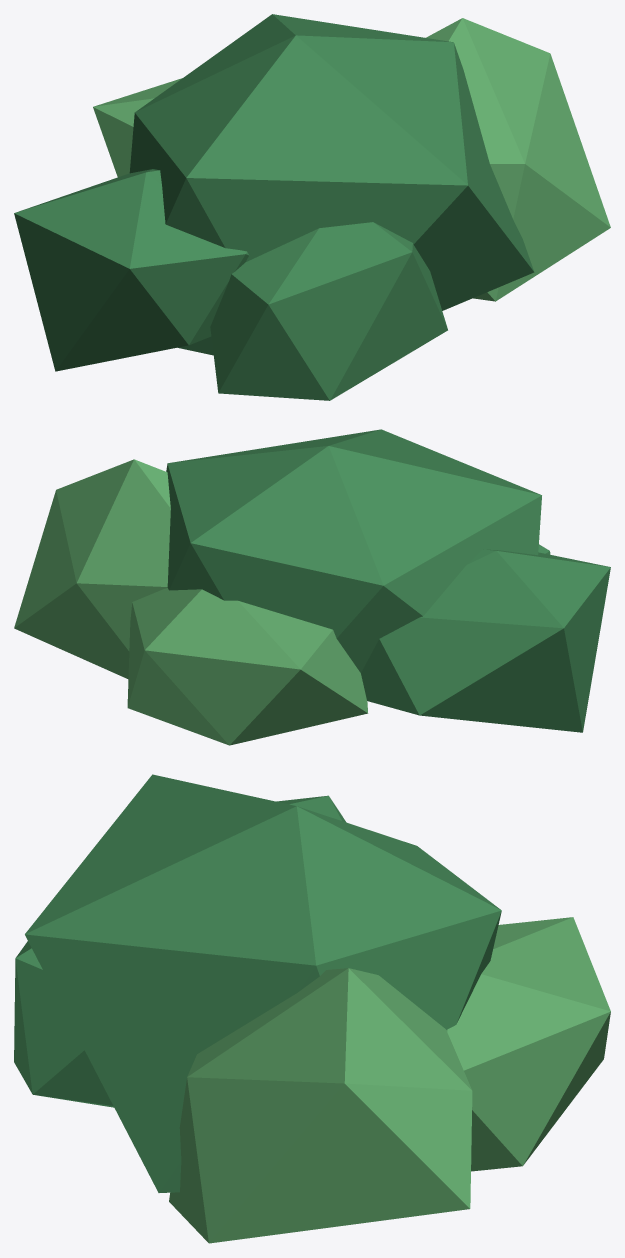
File: sm_env_forest_bush_round.glb
The picture shows the model from 3 angles, top to bottom: view 1: azimuth 30°, elevation 25°; view 2: azimuth 150°, elevation 25°; view 3: azimuth 270°, elevation 25°; orthographic projection. The views are drawn at different scales.
Parts seen in each view (by area): view 1: Bush, Bush.004, Bush.002, Bush.001, Bush.003; view 2: Bush, Bush.002, Bush.003, Bush.001; view 3: Bush, Bush.001, Bush.003, Bush.004, Bush.002.
Boxes of the visible parts, x1,y1,x2,y2 form: Bush: (129,14,534,355); Bush.004: (210,222,447,400); Bush.002: (14,169,248,371); Bush.001: (426,18,610,301); Bush.003: (93,78,182,177); Bush: (166,429,541,672); Bush.002: (361,549,610,732); Bush.003: (127,588,368,745); Bush.001: (14,459,170,678); Bush: (25,774,501,1192); Bush.001: (169,968,472,1243); Bush.003: (446,917,610,1171); Bush.004: (14,941,113,1107); Bush.002: (276,795,346,822).
Size of the model in its own units: 2.15 by 1 by 1.72.
